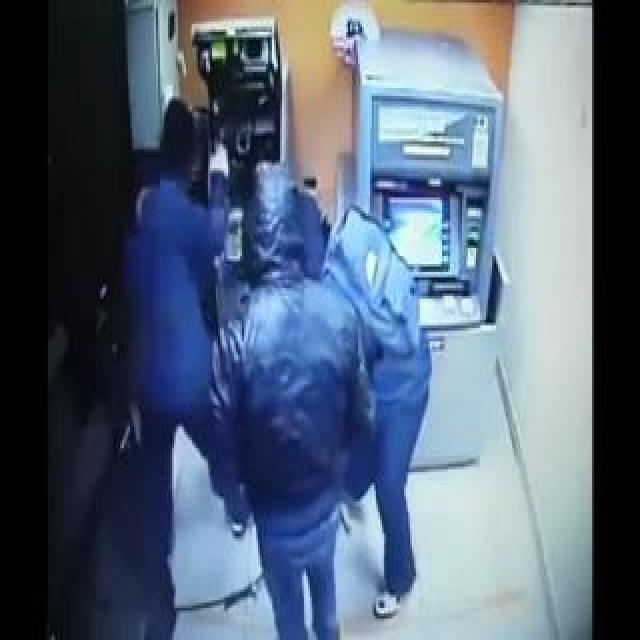thief: (162, 129, 366, 322)
